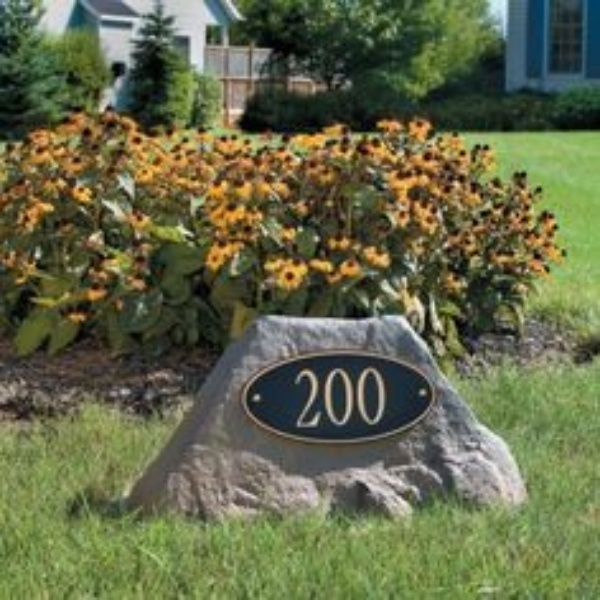text: (305, 364, 320, 430), (321, 364, 336, 430), (337, 364, 352, 430), (353, 364, 368, 430), (369, 364, 384, 430), (293, 364, 304, 430), (385, 364, 387, 430)
